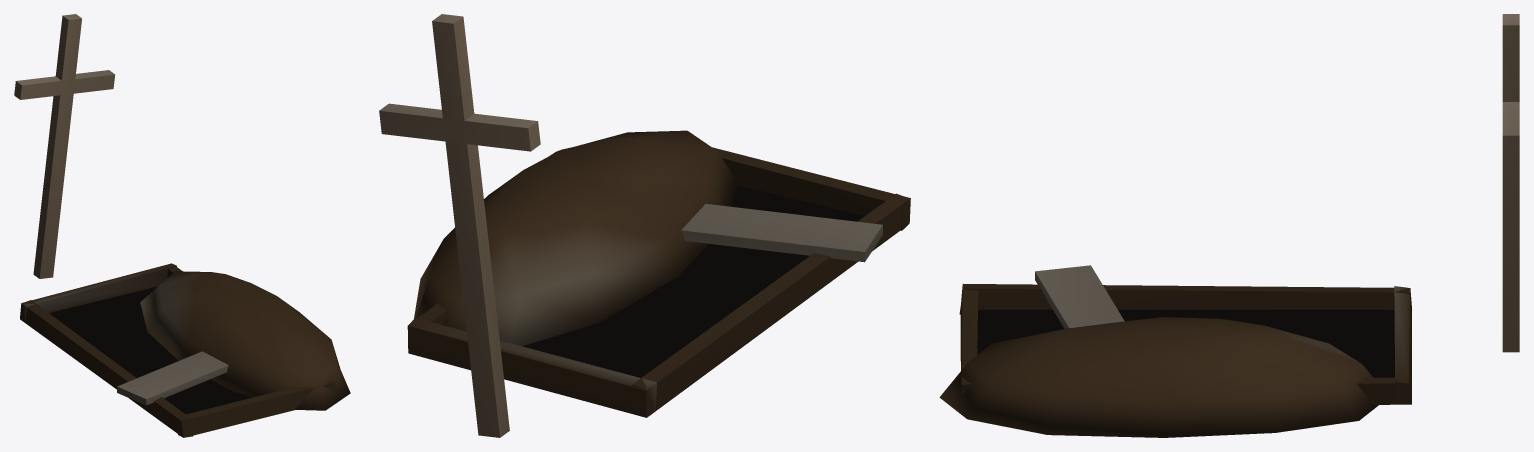
The model's file is grave-dug.glb.
3 renders of one model, left to right at view 1: azimuth 30°, elevation 25°; view 2: azimuth 150°, elevation 25°; view 3: azimuth 270°, elevation 25°, orthographic. The views are drawn at different scales.
Visible parts, largest first — view 1: grave-dug-earth, grave-dug-wood, grave-dug-dark; view 2: grave-dug-earth, grave-dug-wood, grave-dug-dark; view 3: grave-dug-earth, grave-dug-wood, grave-dug-dark.
Part boxes in pixels (x1,y1,x2,y2): grave-dug-earth: (20,263,350,437); grave-dug-wood: (14,14,228,405); grave-dug-dark: (49,286,252,414); grave-dug-earth: (407,130,910,417); grave-dug-wood: (379,14,882,437); grave-dug-dark: (522,185,864,377); grave-dug-earth: (939,284,1411,437); grave-dug-wood: (1035,14,1519,352); grave-dug-dark: (977,309,1394,377).
Bounding box in the file's own units: 1.42 × 1.61 × 2.41.
